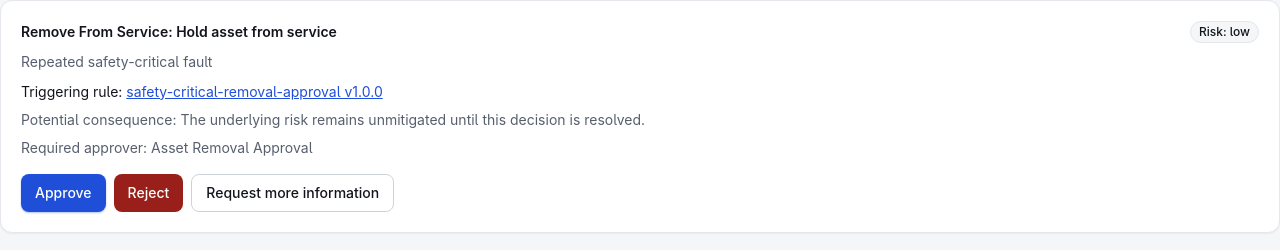
DecisionCard › approves a low-risk decision directly, without requiring a comment
What coordinates should you click on to do the following:
click the button "Approve"
I would click on:
 (63, 193)
Its box is [21, 174, 106, 212].
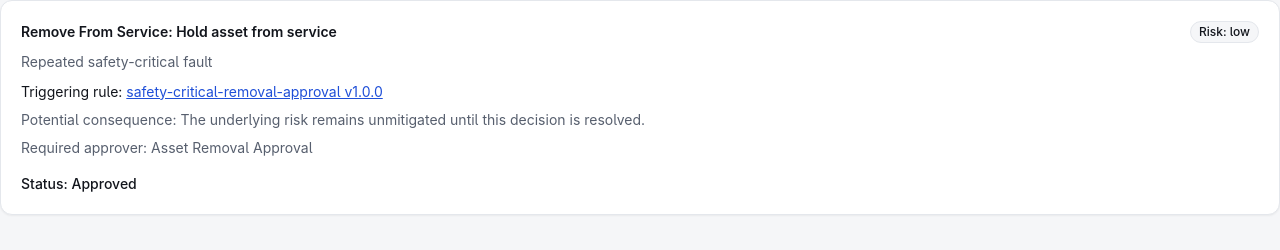
Now the text "Status: Approved" is shown, box [21, 175, 137, 192]
